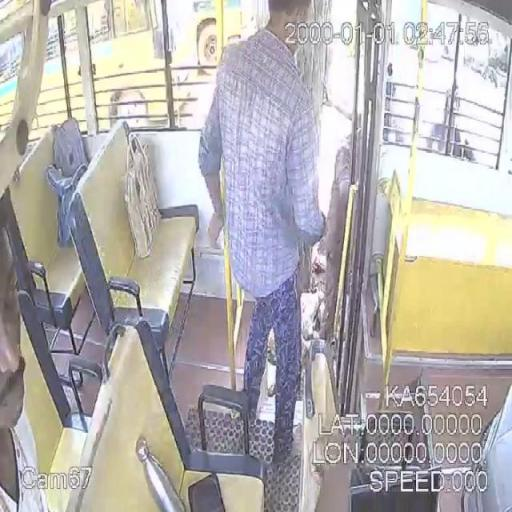persona: (197, 0, 327, 474)
